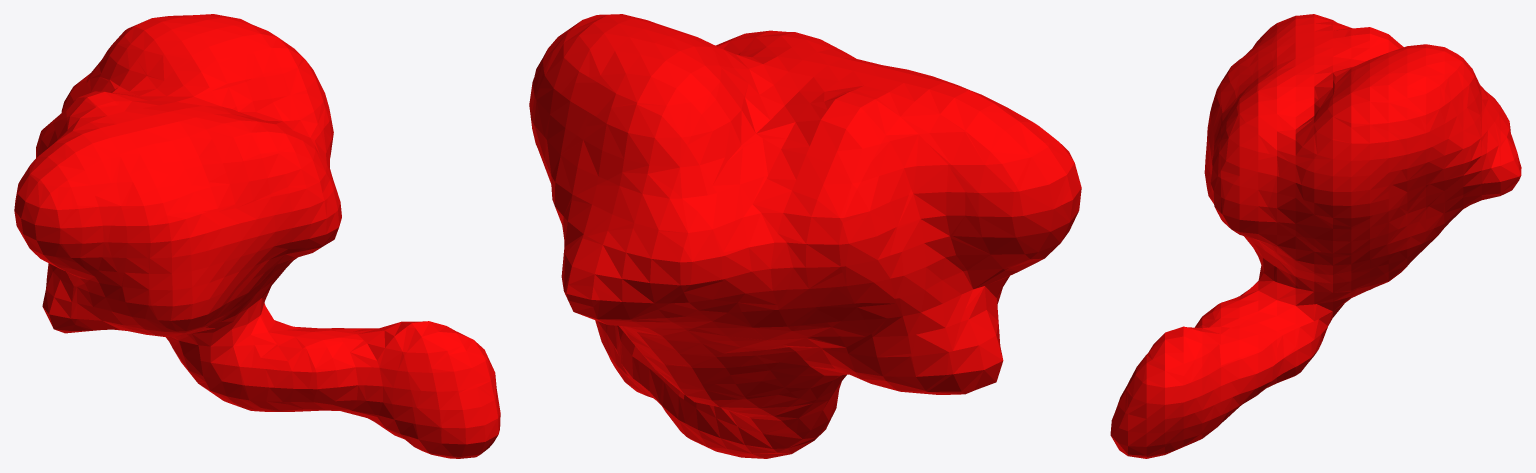
Rendered from feoA_coarse.dae.
3 renders of one model, left to right at view 1: azimuth 30°, elevation 25°; view 2: azimuth 150°, elevation 25°; view 3: azimuth 270°, elevation 25°, orthographic. The views are drawn at different scales.
Visible parts, largest first — view 1: feoA; view 2: feoA; view 3: feoA.
Part boxes in pixels (x1,y1,x2,y2): feoA: (14, 14, 500, 458); feoA: (529, 14, 1081, 458); feoA: (1110, 14, 1521, 458).
Size of the model in its own units: 46.97 by 40.8 by 44.58.
